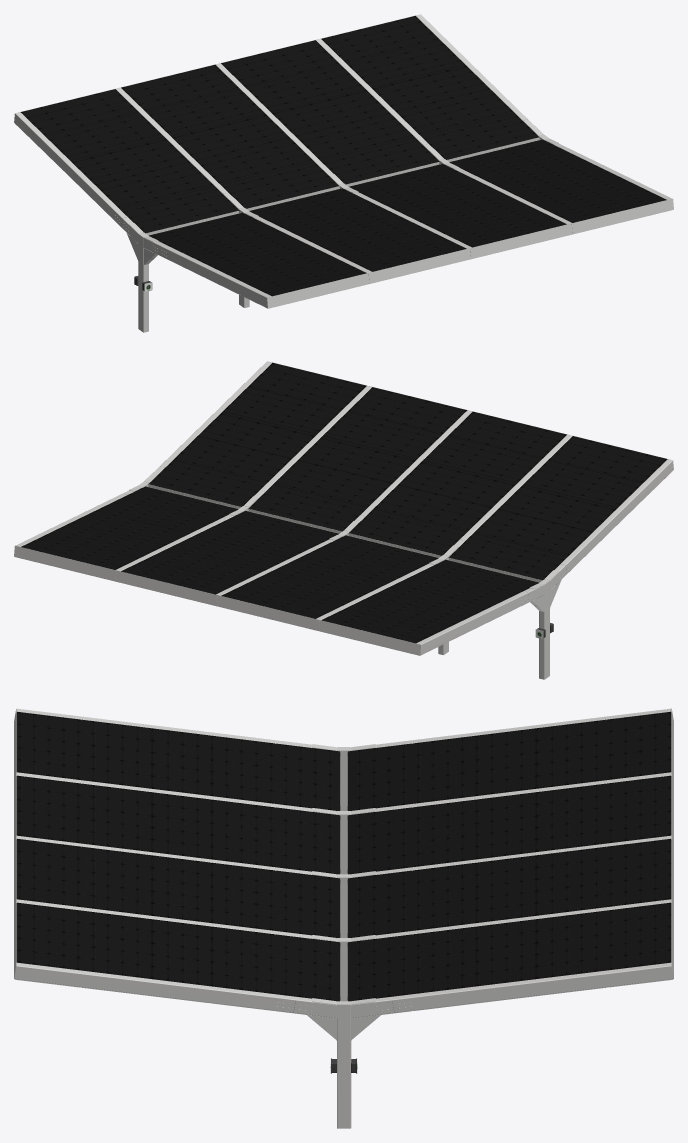
File: oldPac_8.glb
The picture shows the model from 3 angles, top to bottom: view 1: azimuth 30°, elevation 25°; view 2: azimuth 150°, elevation 25°; view 3: azimuth 270°, elevation 25°; orthographic projection. The views are drawn at different scales.
Visible parts, largest first — view 1: Left.167, Left.182, Left.152, Left.173, Left.177, Left.162, Left.147, Left.185, Left.159; view 2: Left.167, Left.182, Left.152, Left.173, Left.177, Left.162, Left.147, Left.185, Left.159; view 3: Left.167, Left.182, Left.152, Left.147, Left.162, Left.155, Left.177, Left.173, Left.170, Left.164, Plane.013.
Boxes of the visible parts, x1=… form: Left.167: x1=121, y1=40, x2=566, y2=271; Left.182: x1=20, y1=89, x2=366, y2=296; Left.152: x1=321, y1=16, x2=666, y2=222; Left.173: x1=14, y1=14, x2=673, y2=308; Left.177: x1=14, y1=112, x2=271, y2=307; Left.162: x1=116, y1=63, x2=471, y2=281; Left.147: x1=316, y1=14, x2=671, y2=233; Left.185: x1=138, y1=232, x2=148, y2=332; Left.159: x1=247, y1=162, x2=440, y2=210; Left.167: x1=121, y1=387, x2=566, y2=618; Left.182: x1=321, y1=436, x2=667, y2=643; Left.152: x1=21, y1=362, x2=366, y2=569; Left.173: x1=14, y1=361, x2=673, y2=655; Left.177: x1=416, y1=459, x2=673, y2=654; Left.162: x1=216, y1=410, x2=572, y2=619; Left.147: x1=16, y1=361, x2=371, y2=571; Left.185: x1=539, y1=579, x2=549, y2=679; Left.159: x1=247, y1=509, x2=441, y2=557; Left.167: x1=16, y1=775, x2=671, y2=937; Left.182: x1=16, y1=711, x2=671, y2=810; Left.152: x1=16, y1=902, x2=671, y2=1001; Left.147: x1=14, y1=899, x2=673, y2=1017; Left.162: x1=16, y1=772, x2=671, y2=877; Left.155: x1=337, y1=938, x2=351, y2=1128; Left.177: x1=16, y1=708, x2=671, y2=750; Left.173: x1=14, y1=708, x2=673, y2=978; Left.170: x1=337, y1=811, x2=351, y2=937; Left.164: x1=14, y1=790, x2=673, y2=1014; Plane.013: x1=307, y1=1015, x2=380, y2=1039.
Size of the model in its own units: 10.75 by 3.15 by 11.57.
Materials: 6 (5 with a texture image).
